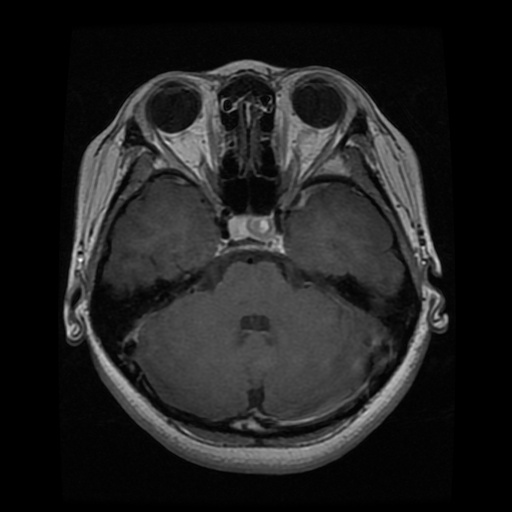pituitary: (228, 216, 283, 250)
